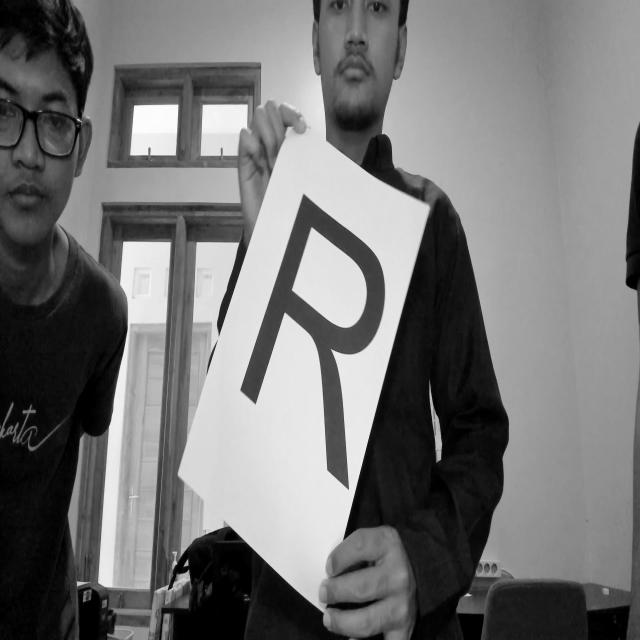r: (220, 173, 393, 507)
